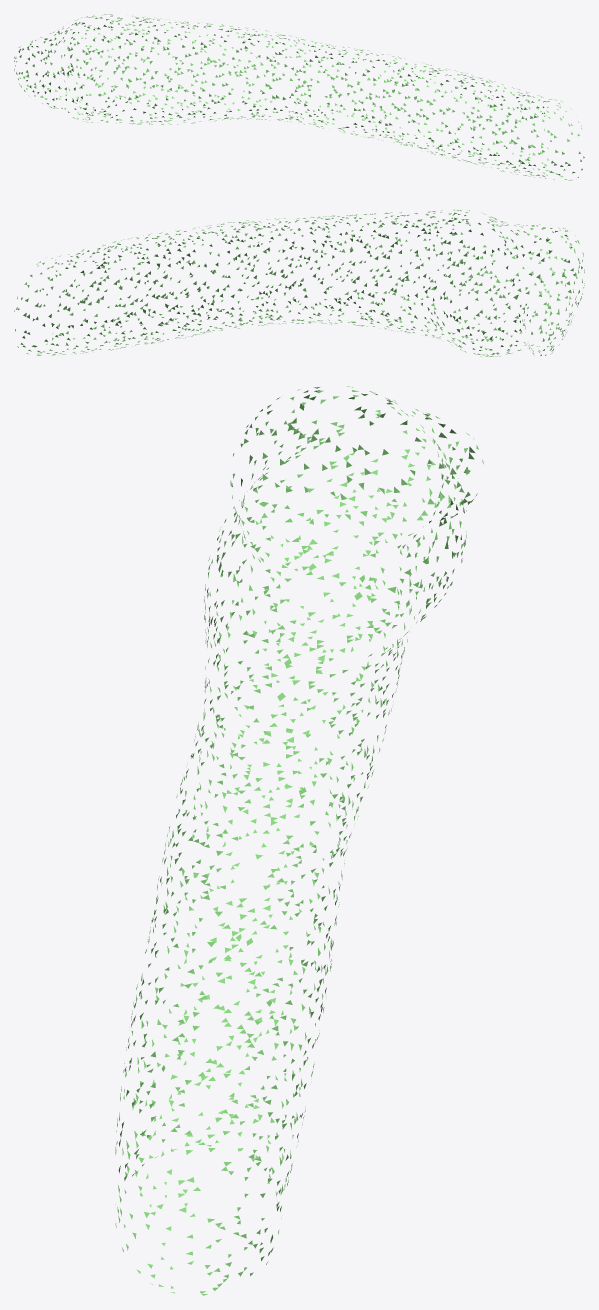
The model's file is morph_016.glb.
The picture shows the model from 3 angles, top to bottom: view 1: azimuth 30°, elevation 25°; view 2: azimuth 150°, elevation 25°; view 3: azimuth 270°, elevation 25°; orthographic projection. The views are drawn at different scales.
Bounding box in the file's own units: 109 × 50.23 × 35.82.
